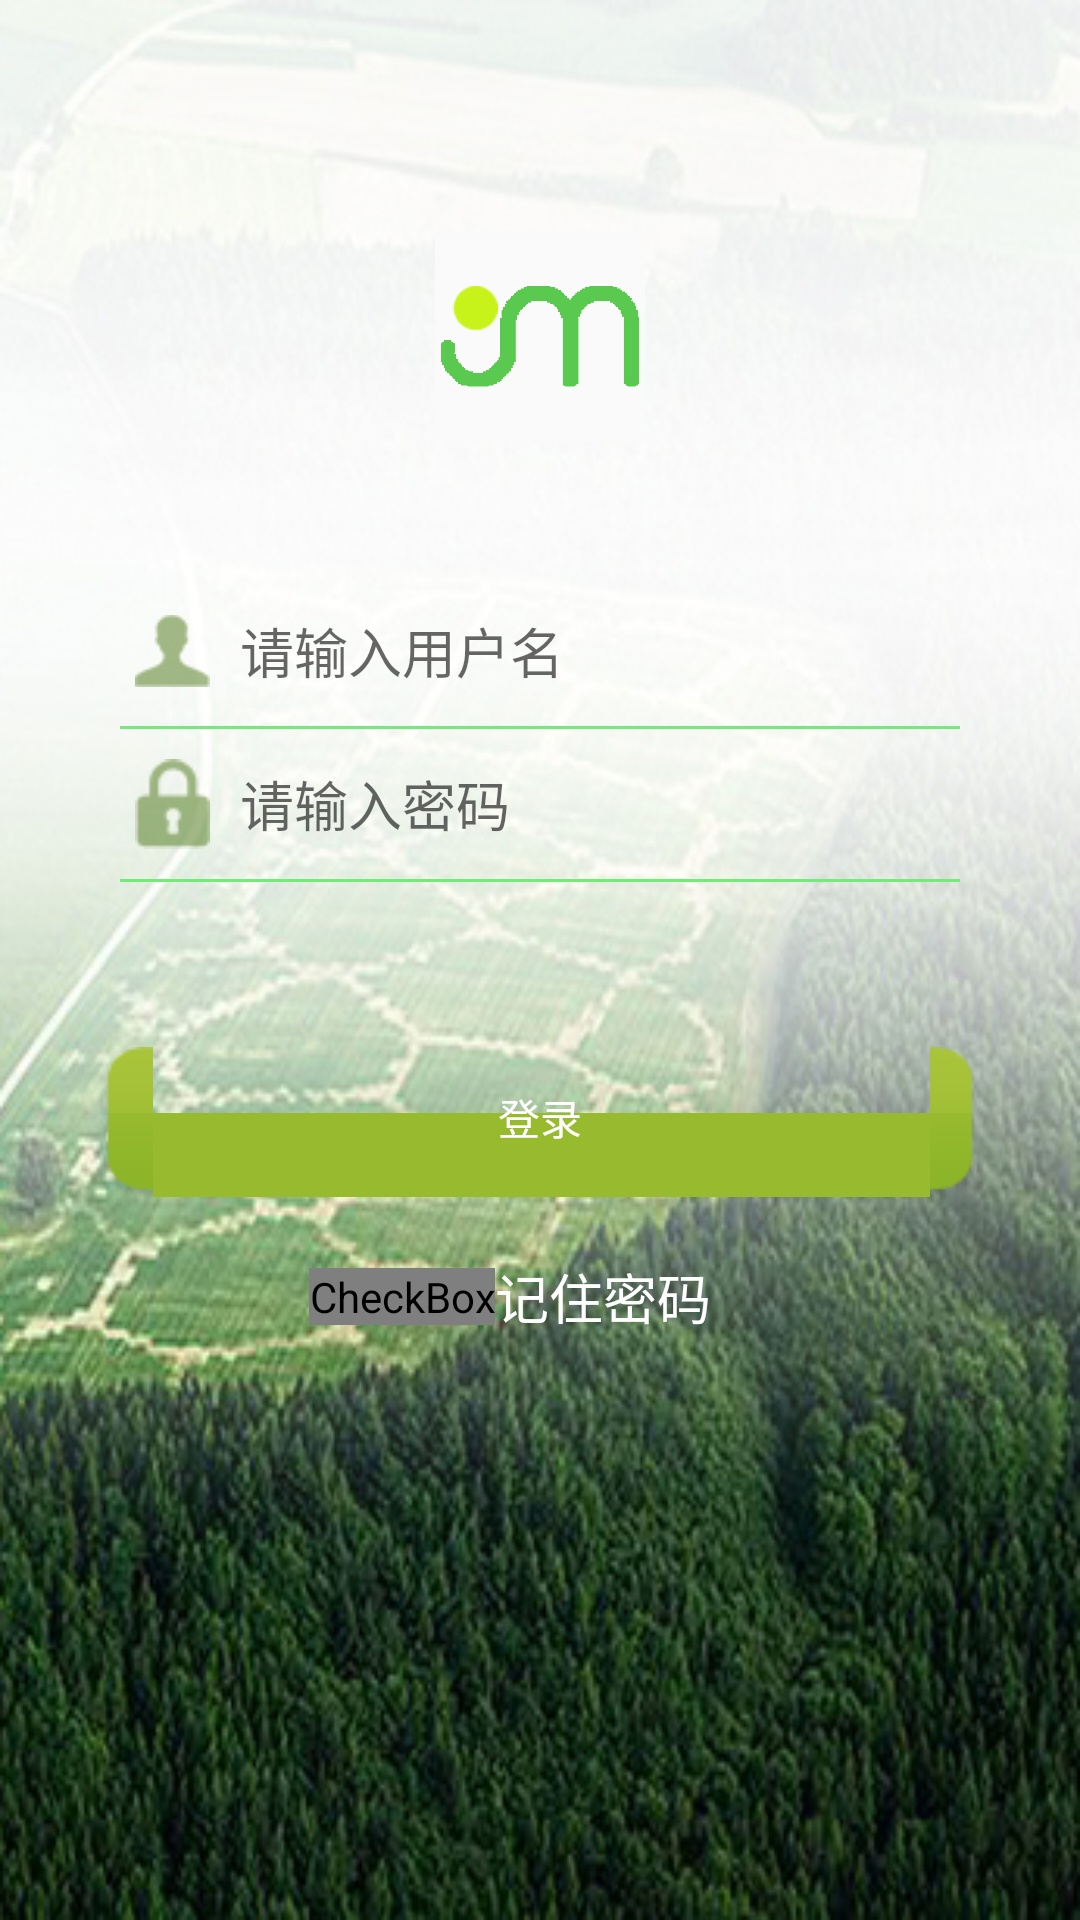

Where icons sit on this 1080 × 1920 app screen, as (x1, y1, x2, y2):
username: (135, 615, 210, 687)
